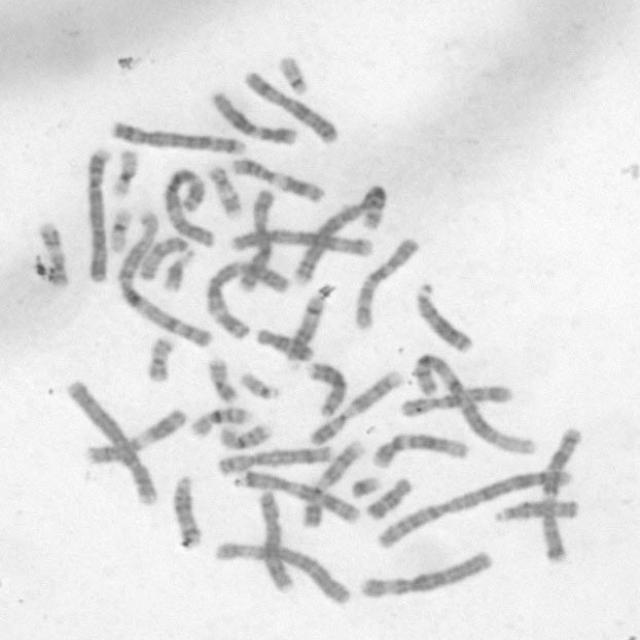A1: (116, 208, 215, 348), (408, 349, 537, 456)
A2: (376, 467, 575, 549), (295, 182, 388, 288)
A3: (205, 260, 291, 340), (162, 166, 217, 248)
B4: (64, 378, 160, 510), (85, 147, 114, 284)
B5: (112, 117, 248, 157), (228, 228, 374, 258)
C10: (351, 236, 421, 331), (399, 383, 514, 420)
C11: (84, 406, 190, 464), (230, 154, 330, 204)
C12: (211, 91, 298, 145), (370, 432, 472, 469)
C6: (214, 540, 352, 607), (357, 548, 495, 600)
C7: (242, 468, 362, 525), (538, 424, 584, 564)
C8: (215, 445, 332, 479), (260, 488, 294, 594)
C9: (308, 369, 403, 448), (299, 437, 366, 532)
D13: (412, 280, 476, 355), (306, 360, 348, 419)
D14: (283, 296, 325, 370), (169, 472, 205, 549)
D15: (488, 496, 581, 528), (139, 235, 188, 282)
E16: (192, 406, 254, 441), (217, 423, 276, 451)
E17: (205, 161, 245, 219), (37, 222, 70, 286)
E18: (253, 325, 318, 363), (364, 476, 414, 521)
F19: (111, 146, 139, 198), (108, 209, 134, 256)
F20: (206, 356, 241, 405), (146, 333, 177, 382)
G21: (160, 244, 198, 296), (347, 475, 383, 500)
G22: (237, 368, 282, 402), (276, 55, 310, 97)
X: (240, 67, 342, 143), (236, 186, 274, 294)
